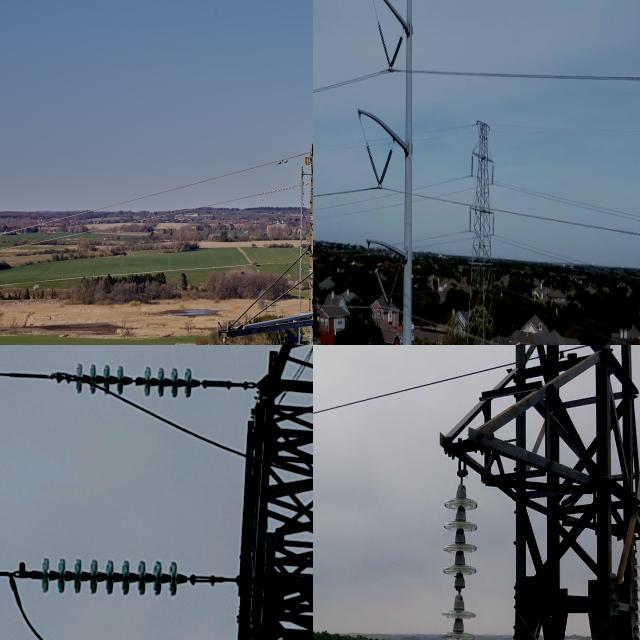杆塔: (443, 345, 640, 640), (215, 345, 313, 640), (198, 126, 313, 345), (448, 110, 503, 345)
正常电缆: (313, 357, 515, 423)
正常绝缘子: (15, 548, 195, 608), (431, 458, 487, 640), (55, 351, 202, 409), (370, 10, 396, 77), (358, 132, 385, 195), (374, 139, 398, 200), (382, 26, 408, 81), (488, 159, 497, 188), (470, 150, 476, 183), (467, 202, 473, 235), (490, 211, 497, 239)
绝缘子破损: (453, 581, 466, 605), (128, 375, 139, 387)
